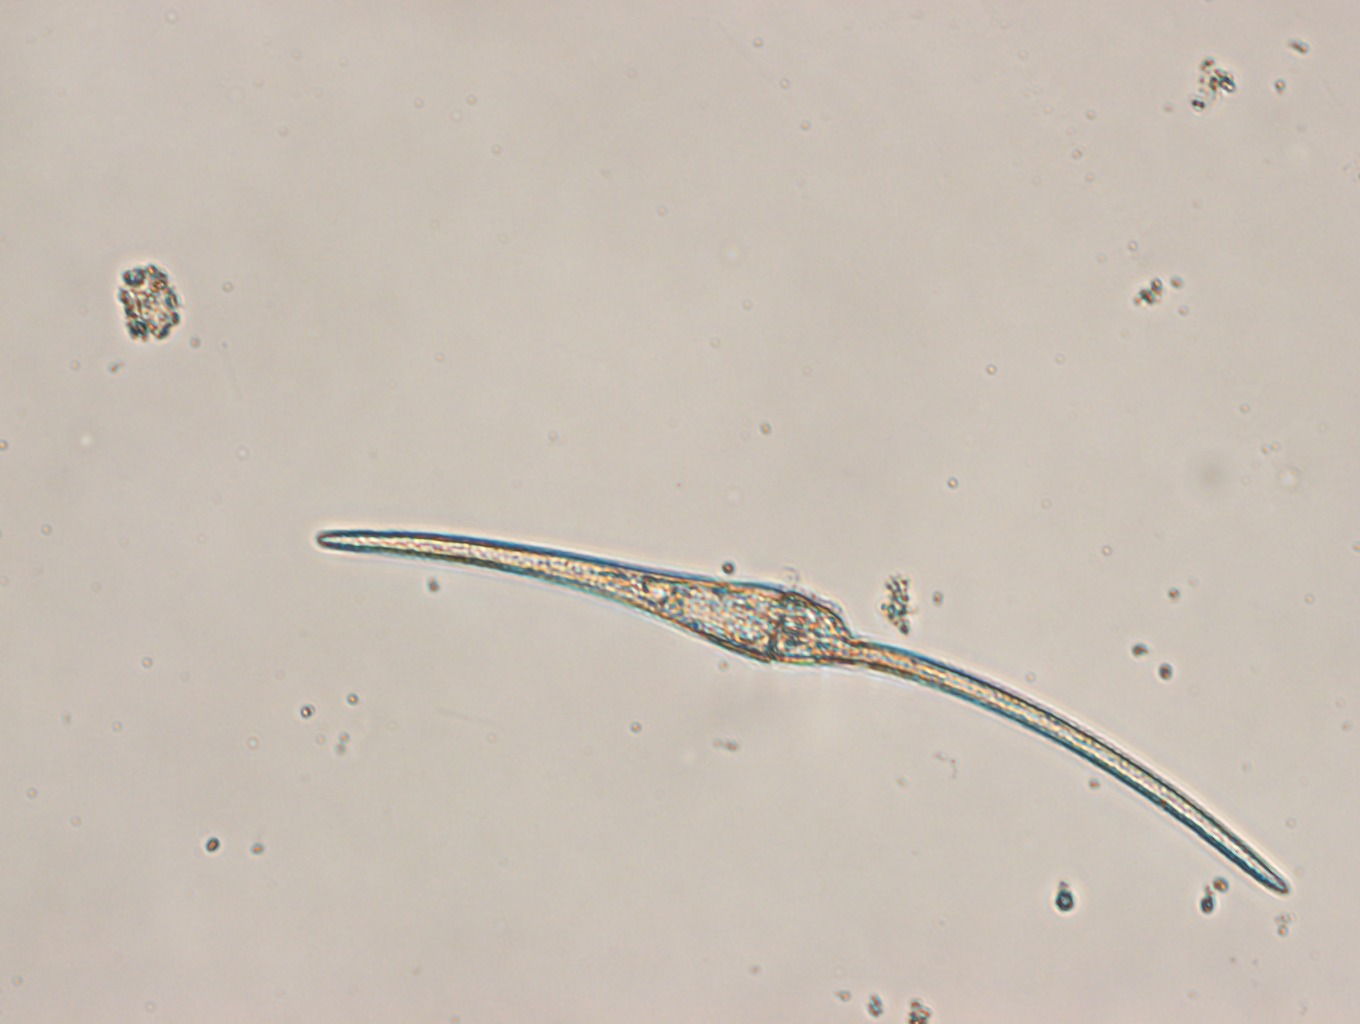ceratium fusus: (311, 523, 1292, 900)
